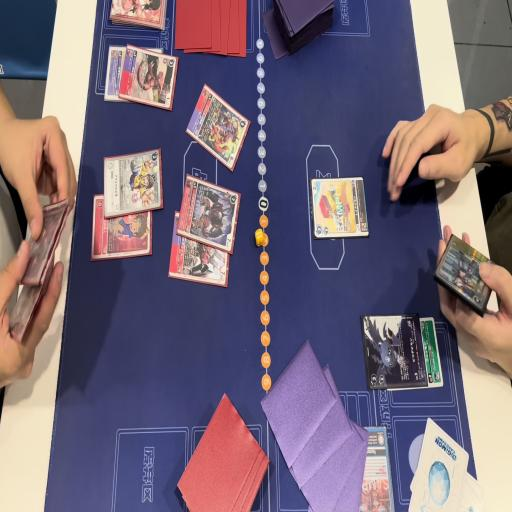card: (184, 91, 254, 169), (361, 313, 423, 395), (91, 186, 154, 264), (101, 146, 164, 218), (178, 180, 240, 251), (16, 207, 71, 287), (436, 237, 492, 312), (122, 44, 180, 111), (310, 176, 369, 241), (169, 222, 230, 284), (355, 421, 392, 512), (5, 279, 46, 340), (420, 318, 444, 390), (102, 42, 128, 106)
